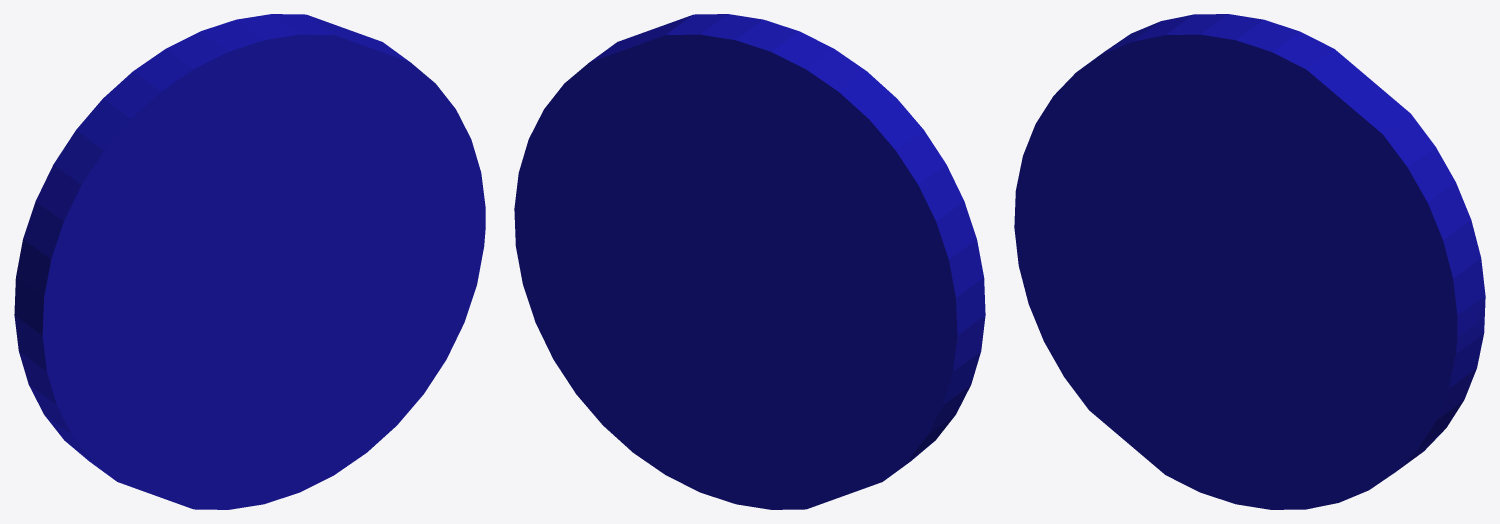
The model's file is MOTOMAN_AXIS_T_COLLISION.dae.
3 views of the same model, side by side, from view 1: azimuth 30°, elevation 25°; view 2: azimuth 150°, elevation 25°; view 3: azimuth 330°, elevation 25° (orthographic).
Parts seen in each view (by area): view 1: node; view 2: node; view 3: node.
Boxes of the visible parts, x1,y1,x2,y2 form: node: (14, 14, 485, 509); node: (514, 14, 985, 509); node: (1014, 14, 1485, 509).
Bounding box in the file's own units: 0.0999 × 0.1 × 0.011.
